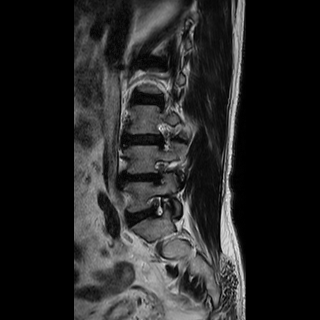RFS0: (145, 187, 170, 222)
